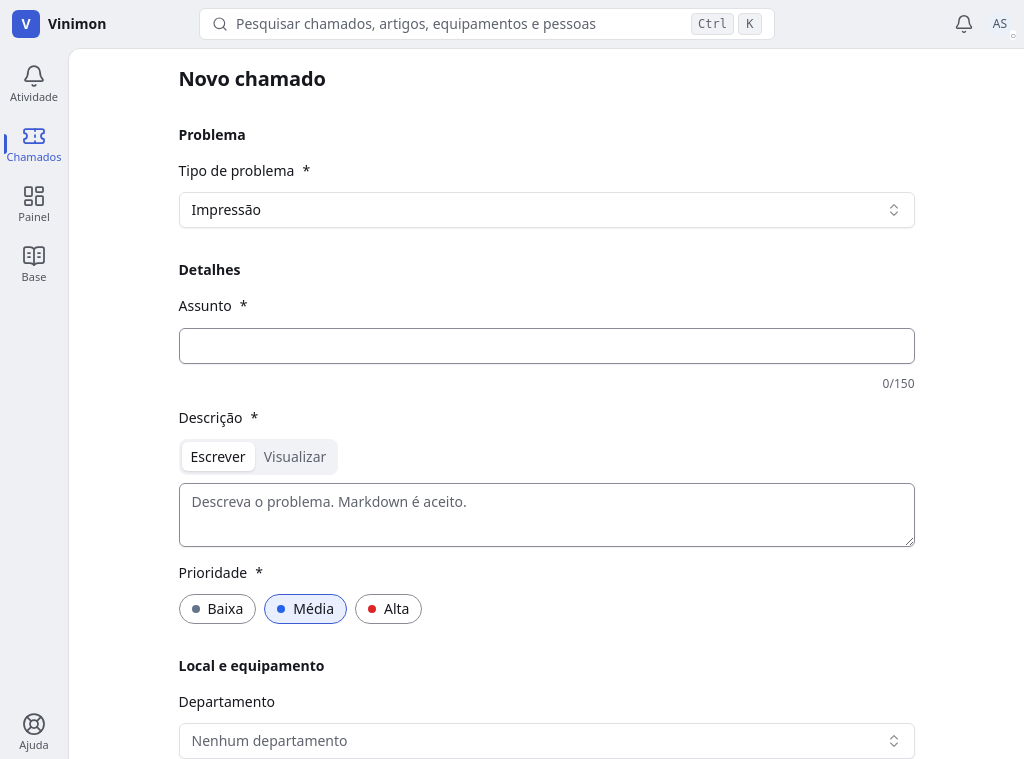
Test case: /chamados/novo (sugestões, rascunho e anexos) › digitar "impressora" mostra o artigo sugerido
In the field labelled "Assunto *": (546, 346) [178,328,914,364], type "impressora"
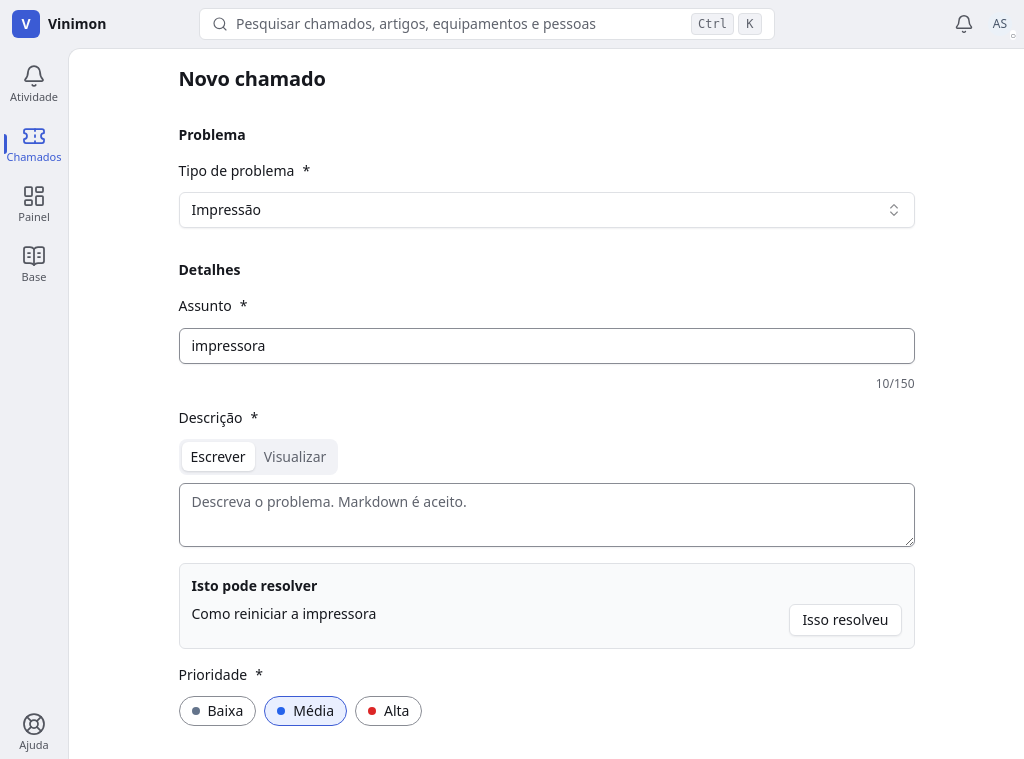
expect the text "Como reiniciar a impressora" is shown: met, box [192,604,376,624]
expect the button "Isso resolveu" is shown: met, box [789,604,902,636]
